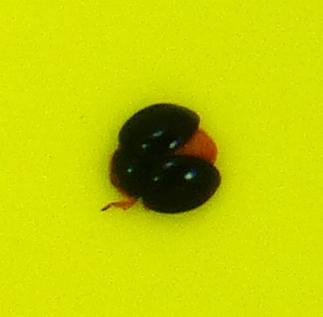Coleoptera: (100, 100, 223, 217)
